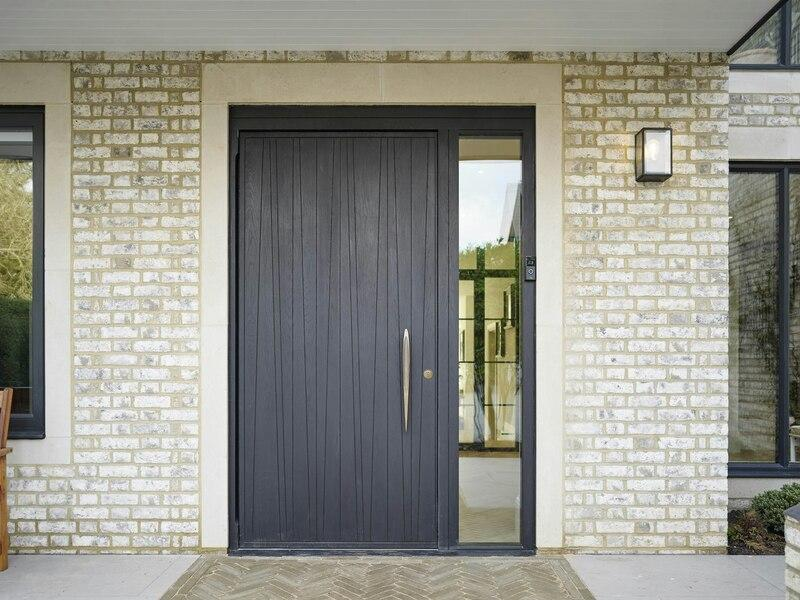doorbell: (519, 251, 537, 286)
